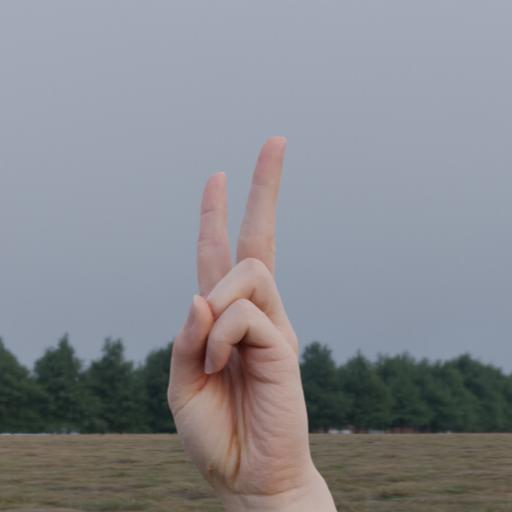V: (168, 131, 316, 503)
